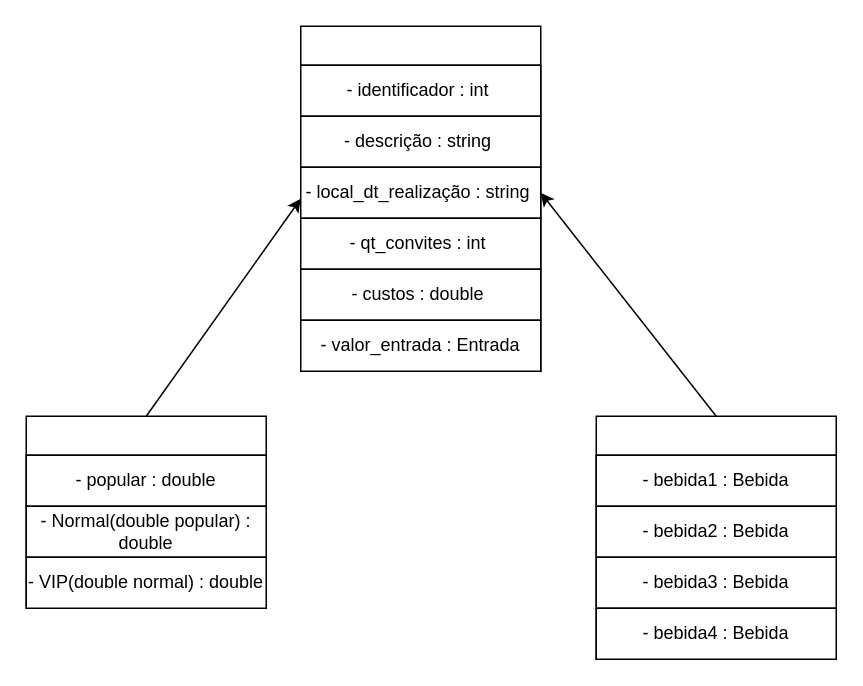
This 863x686 diagram has some shape labels left out. The box of each missing label's shape, as (x1, y1, x2, y2) in pixels:
Bar Aberto: (595, 415, 836, 659)
Entrada: (25, 415, 266, 608)
Evento: (299, 25, 541, 371)
